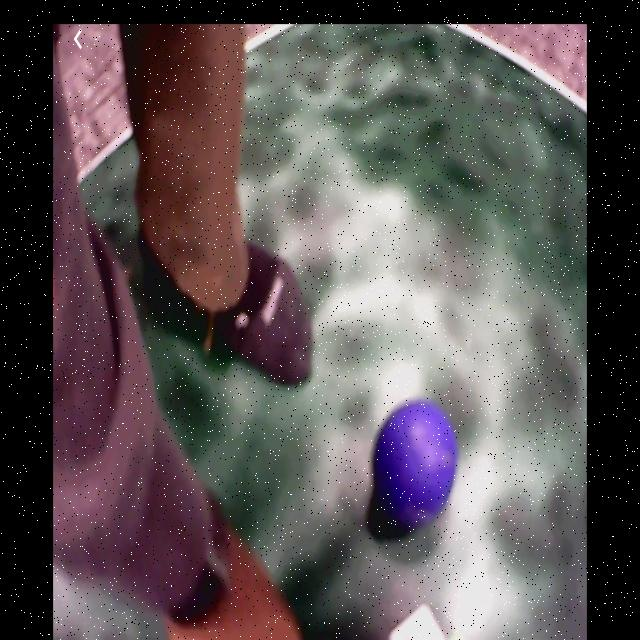ball: (373, 401, 457, 528)
